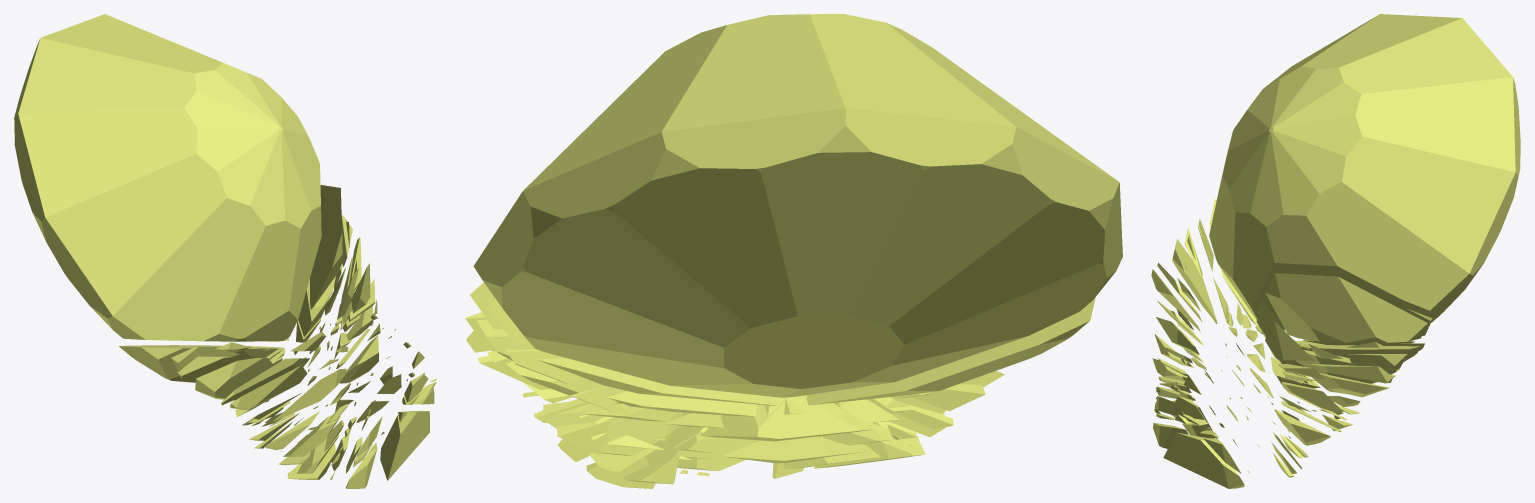
Rendered from gem_292500.gltf.
3 views of the same model, side by side, from view 1: azimuth 30°, elevation 25°; view 2: azimuth 150°, elevation 25°; view 3: azimuth 270°, elevation 25° (orthographic). The views are drawn at different scales.
Bounding box in the file's own units: 1.94 × 1.92 × 1.8.
